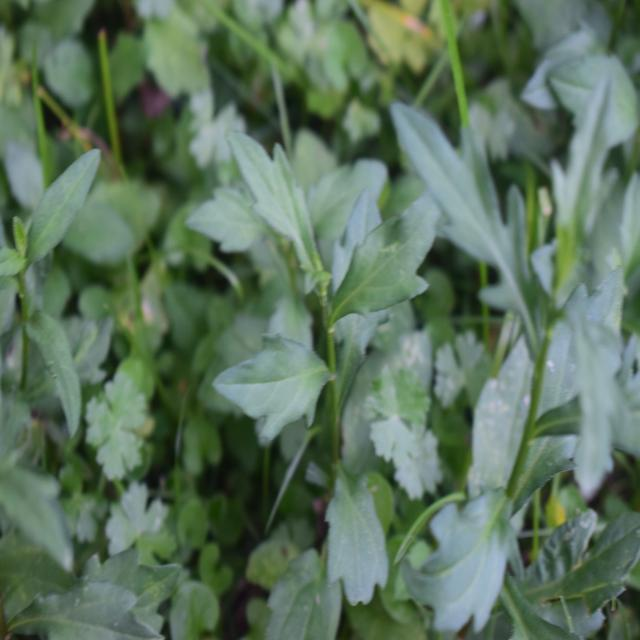Indian aster: (197, 150, 415, 554), (421, 87, 623, 498)
